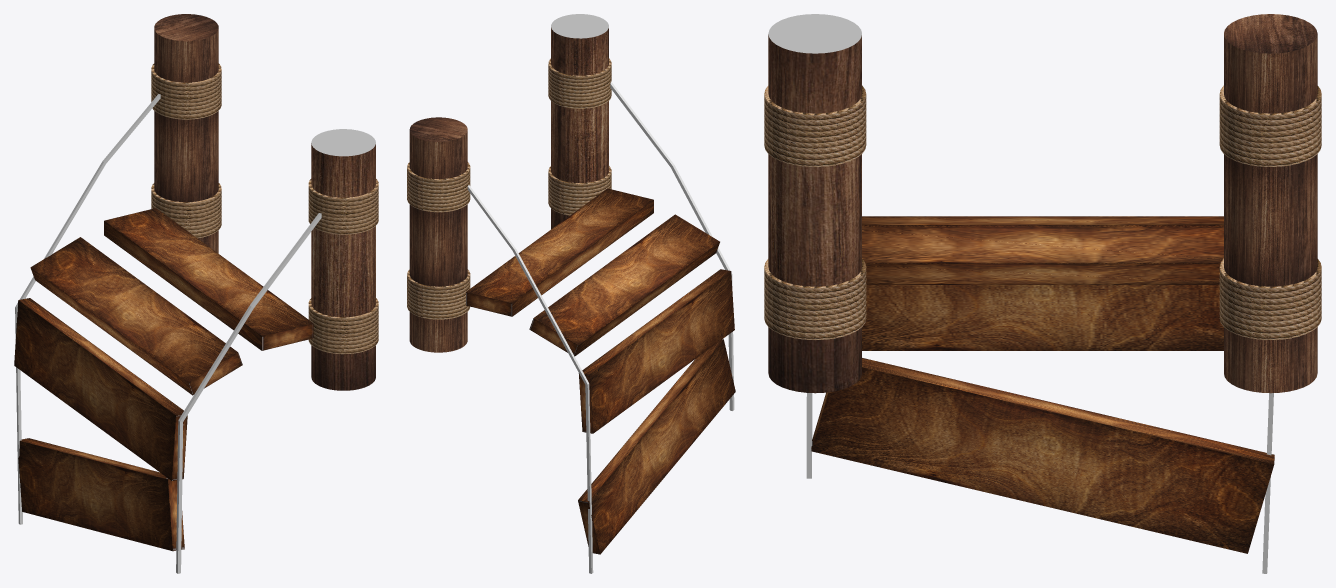
The model's file is tangga katu tali.fbx.
3 renders of one model, left to right at view 1: azimuth 30°, elevation 25°; view 2: azimuth 150°, elevation 25°; view 3: azimuth 270°, elevation 25°, orthographic. The views are drawn at different scales.
Visible parts, largest first — view 1: Cube.002, Cube.001, Cube.003, Cube, Cylinder, Cylinder.002, Cylinder.005, Cylinder.004, Cylinder.001, Cube.005, Cylinder.003, Cube.006 (+1 smaller); view 2: Cube.003, Cube.002, Cube.001, Cylinder.002, Cube, Cylinder, Cylinder.004, Cylinder.005, Cylinder.003, Cube.006, Cylinder.001, Cube.005 (+1 smaller); view 3: Cube.003, Cylinder.002, Cube.002, Cylinder, Cube, Cylinder.004, Cylinder.005, Cylinder.001, Cylinder.003, Cube.001, Cylinder.007, Cube.006.
Boxes of the visible parts, x1,y1,x2,y2 form: Cube.002: (14, 298, 187, 480); Cube.001: (30, 237, 242, 395); Cube.003: (18, 438, 184, 551); Cube: (104, 208, 313, 350); Cylinder: (311, 143, 375, 390); Cylinder.002: (154, 14, 218, 253); Cylinder.005: (151, 63, 221, 119); Cylinder.004: (308, 179, 378, 234); Cylinder.001: (308, 298, 378, 354); Cube.005: (176, 213, 321, 573); Cylinder.003: (151, 183, 221, 238); Cube.006: (15, 94, 160, 524); Cube.003: (578, 339, 735, 554); Cube.002: (578, 269, 734, 433); Cube.001: (529, 214, 719, 356); Cylinder.002: (409, 117, 467, 352); Cube: (466, 188, 653, 316); Cylinder: (551, 27, 608, 229); Cylinder.004: (548, 58, 611, 108); Cylinder.005: (407, 162, 470, 212); Cylinder.003: (407, 269, 470, 319); Cube.006: (467, 185, 593, 573); Cylinder.001: (548, 166, 611, 215); Cube.005: (610, 81, 734, 410); Cube.003: (811, 358, 1274, 553); Cylinder.002: (1224, 14, 1317, 393); Cube.002: (862, 285, 1223, 350); Cylinder: (768, 34, 861, 393); Cube: (862, 226, 1223, 284); Cylinder.004: (764, 85, 866, 166); Cylinder.005: (1219, 85, 1321, 166); Cylinder.001: (764, 258, 866, 340); Cylinder.003: (1219, 258, 1321, 340); Cube.001: (862, 216, 1223, 226); Cylinder.007: (768, 14, 861, 53); Cube.006: (1262, 393, 1273, 573).
Bounding box in the file's own units: 521 × 1115 × 857.
